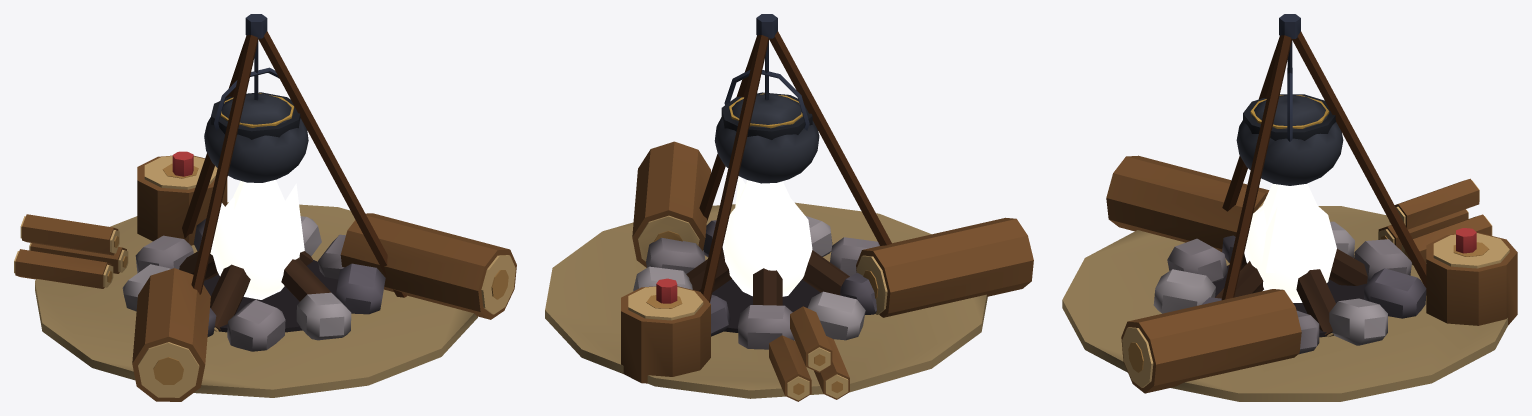
The model's file is o_feuer.glb.
3 renders of one model, left to right at view 1: azimuth 30°, elevation 25°; view 2: azimuth 150°, elevation 25°; view 3: azimuth 270°, elevation 25°, orthographic.
Parts seen in each view (by area): view 1: body, fire_glow; view 2: body, fire_glow; view 3: body, fire_glow.
Part boxes in pixels (bbox=[...]): body: bbox=[14, 14, 516, 401]; fire_glow: bbox=[210, 179, 304, 299]; body: bbox=[545, 14, 1033, 401]; fire_glow: bbox=[722, 176, 812, 296]; body: bbox=[1062, 14, 1517, 401]; fire_glow: bbox=[1244, 183, 1336, 302].
Bounding box in the file's own units: 2.91 × 2.08 × 2.9.
